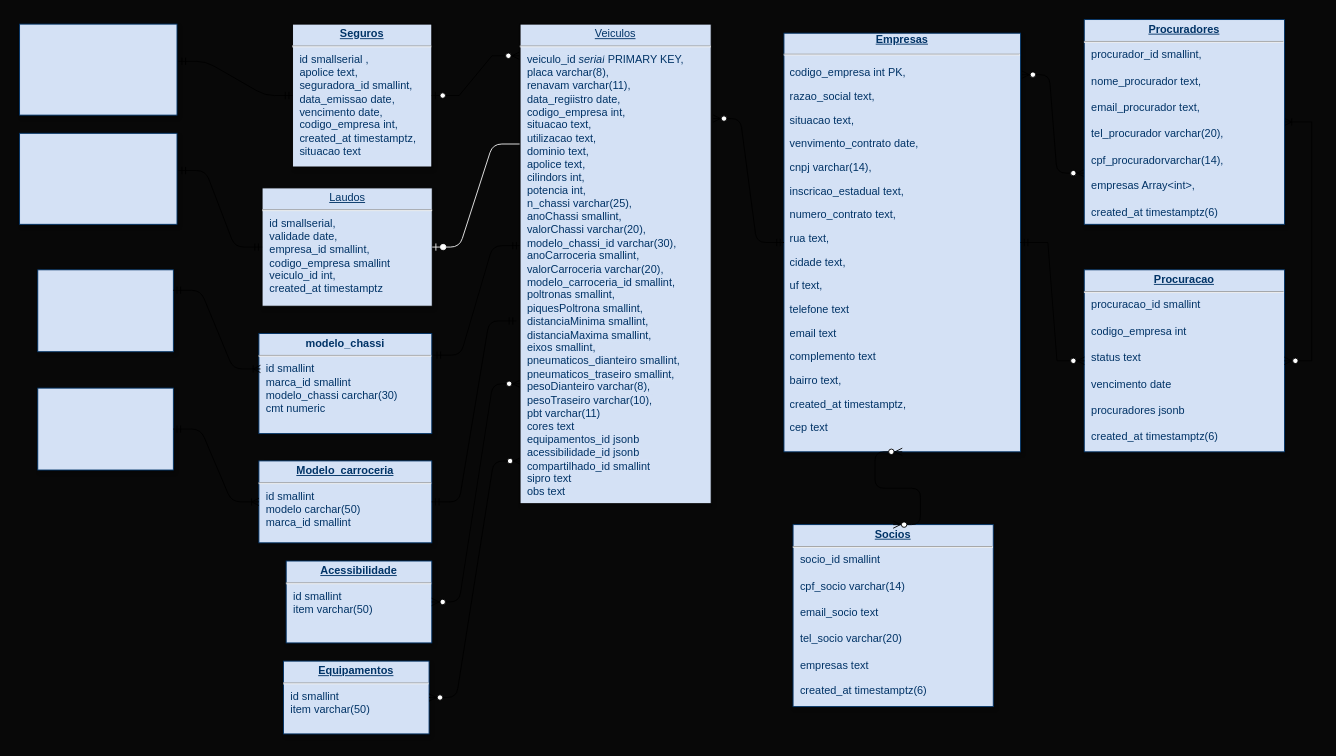
The diagram is 1336 pixels wide and 756 high, and some of its shapes have lost their labels. The centre of each missing label's shape, as x and y in pixels:
Empresa_Laudo id smallint PRIMARY KEY, empresa varchar(80): point 98,180
Marca_carroceria id smallint marca varchar(40): point 106,430
Marca_chassi id smallint marca varchar(25): point 106,311
Seguradoras id smallint PRIMARY KEY, seguradora varchar(50): point 98,70
